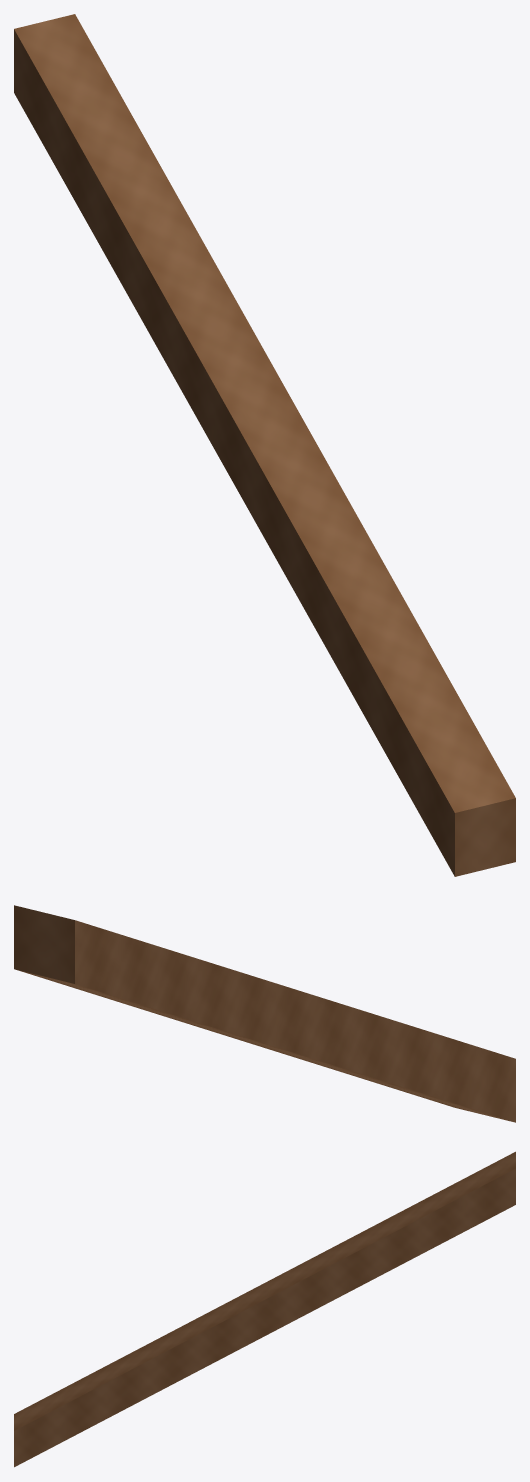
File: MRP_Rafter_1m.fbx
3 renders of one model, top to bottom at view 1: azimuth 30°, elevation 25°; view 2: azimuth 150°, elevation 25°; view 3: azimuth 270°, elevation 25°, orthographic. The views are drawn at different scales.
Visible parts, largest first — view 1: Body; view 2: Body; view 3: Body.
Part boxes in pixels (<box>): Body: <box>14,14,515,876</box>; Body: <box>14,905,515,1122</box>; Body: <box>14,1151,515,1467</box>.
Size of the model in its own units: 0.08 by 0.6574 by 1.
